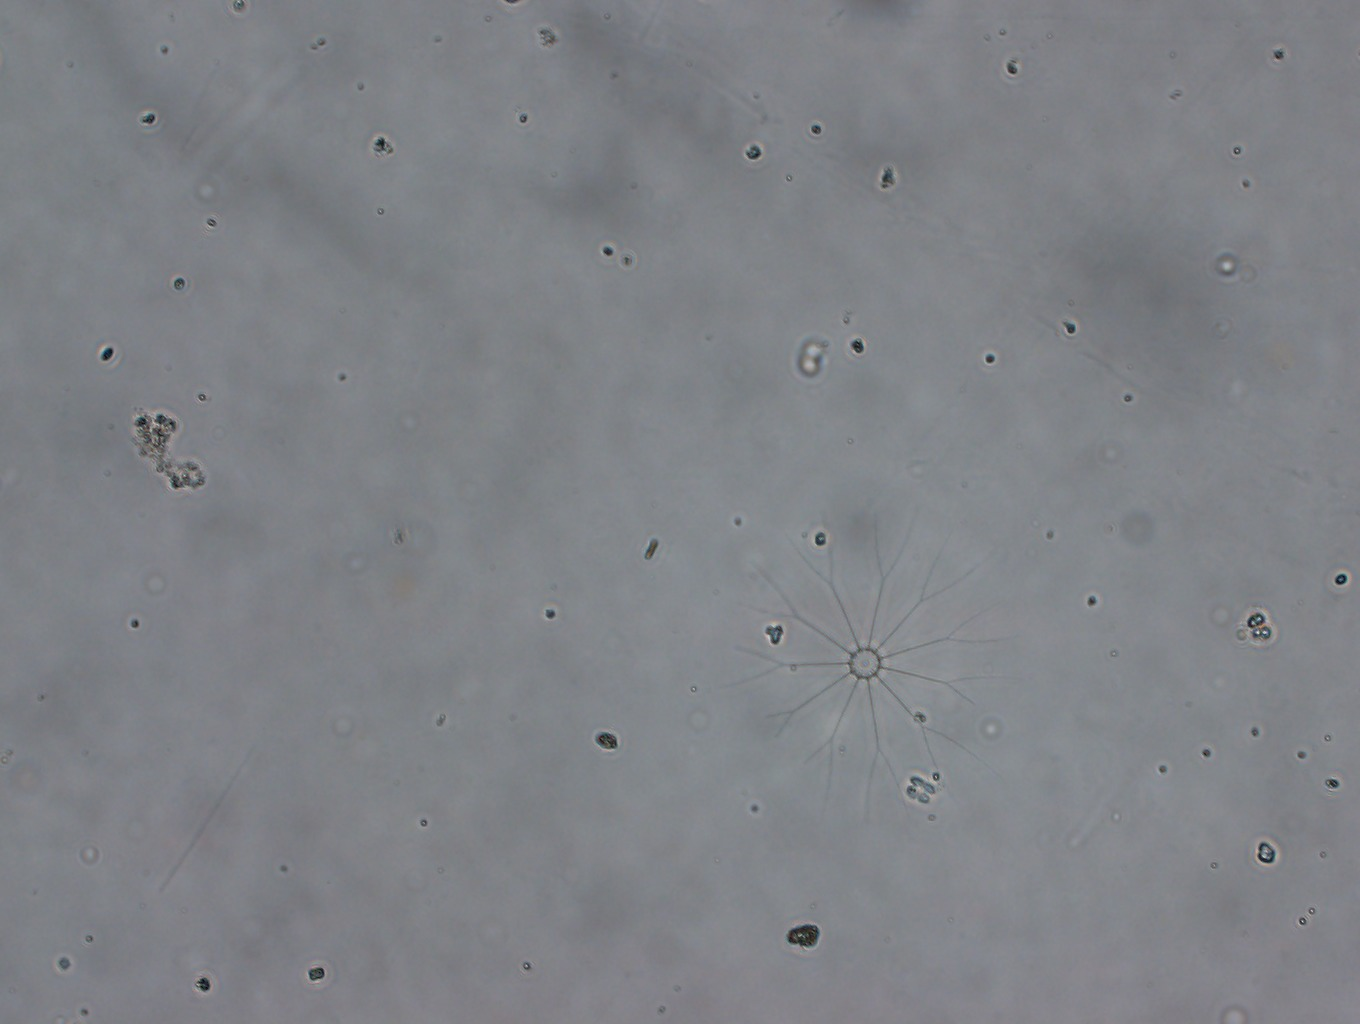bacteriastrum: (715, 517, 1013, 825)
